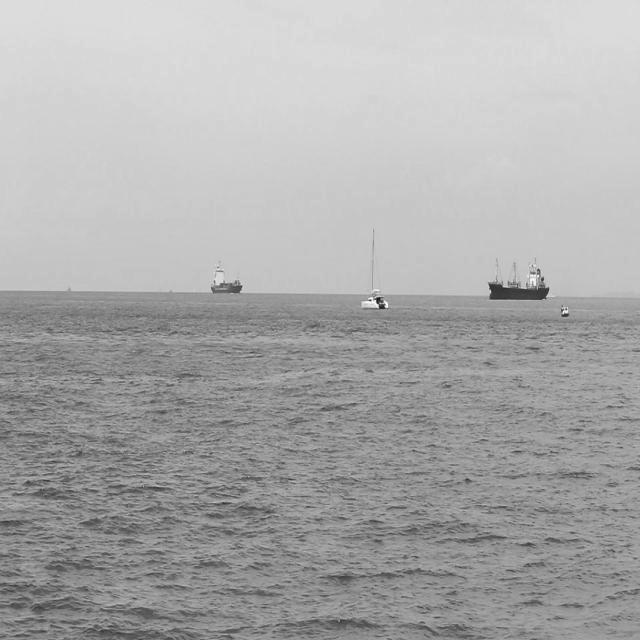ship: (488, 256, 550, 300), (360, 227, 390, 311), (209, 260, 243, 294), (559, 300, 570, 316)
